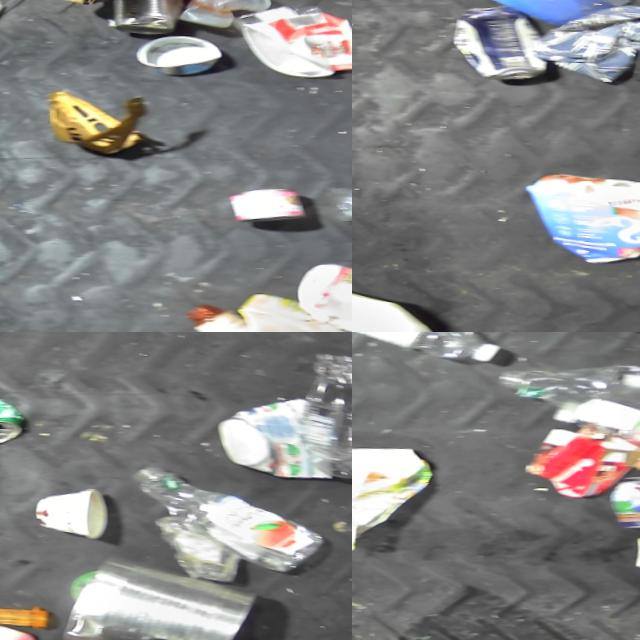can: (444, 0, 540, 76), (121, 19, 226, 75), (215, 174, 309, 228), (102, 0, 191, 42), (600, 462, 640, 531), (0, 389, 19, 443)
milk_jug: (294, 249, 352, 332), (352, 269, 415, 332)
non_white_jug: (187, 282, 352, 332)
plastic_bottle: (126, 453, 318, 570), (290, 343, 352, 471), (352, 332, 499, 365)
